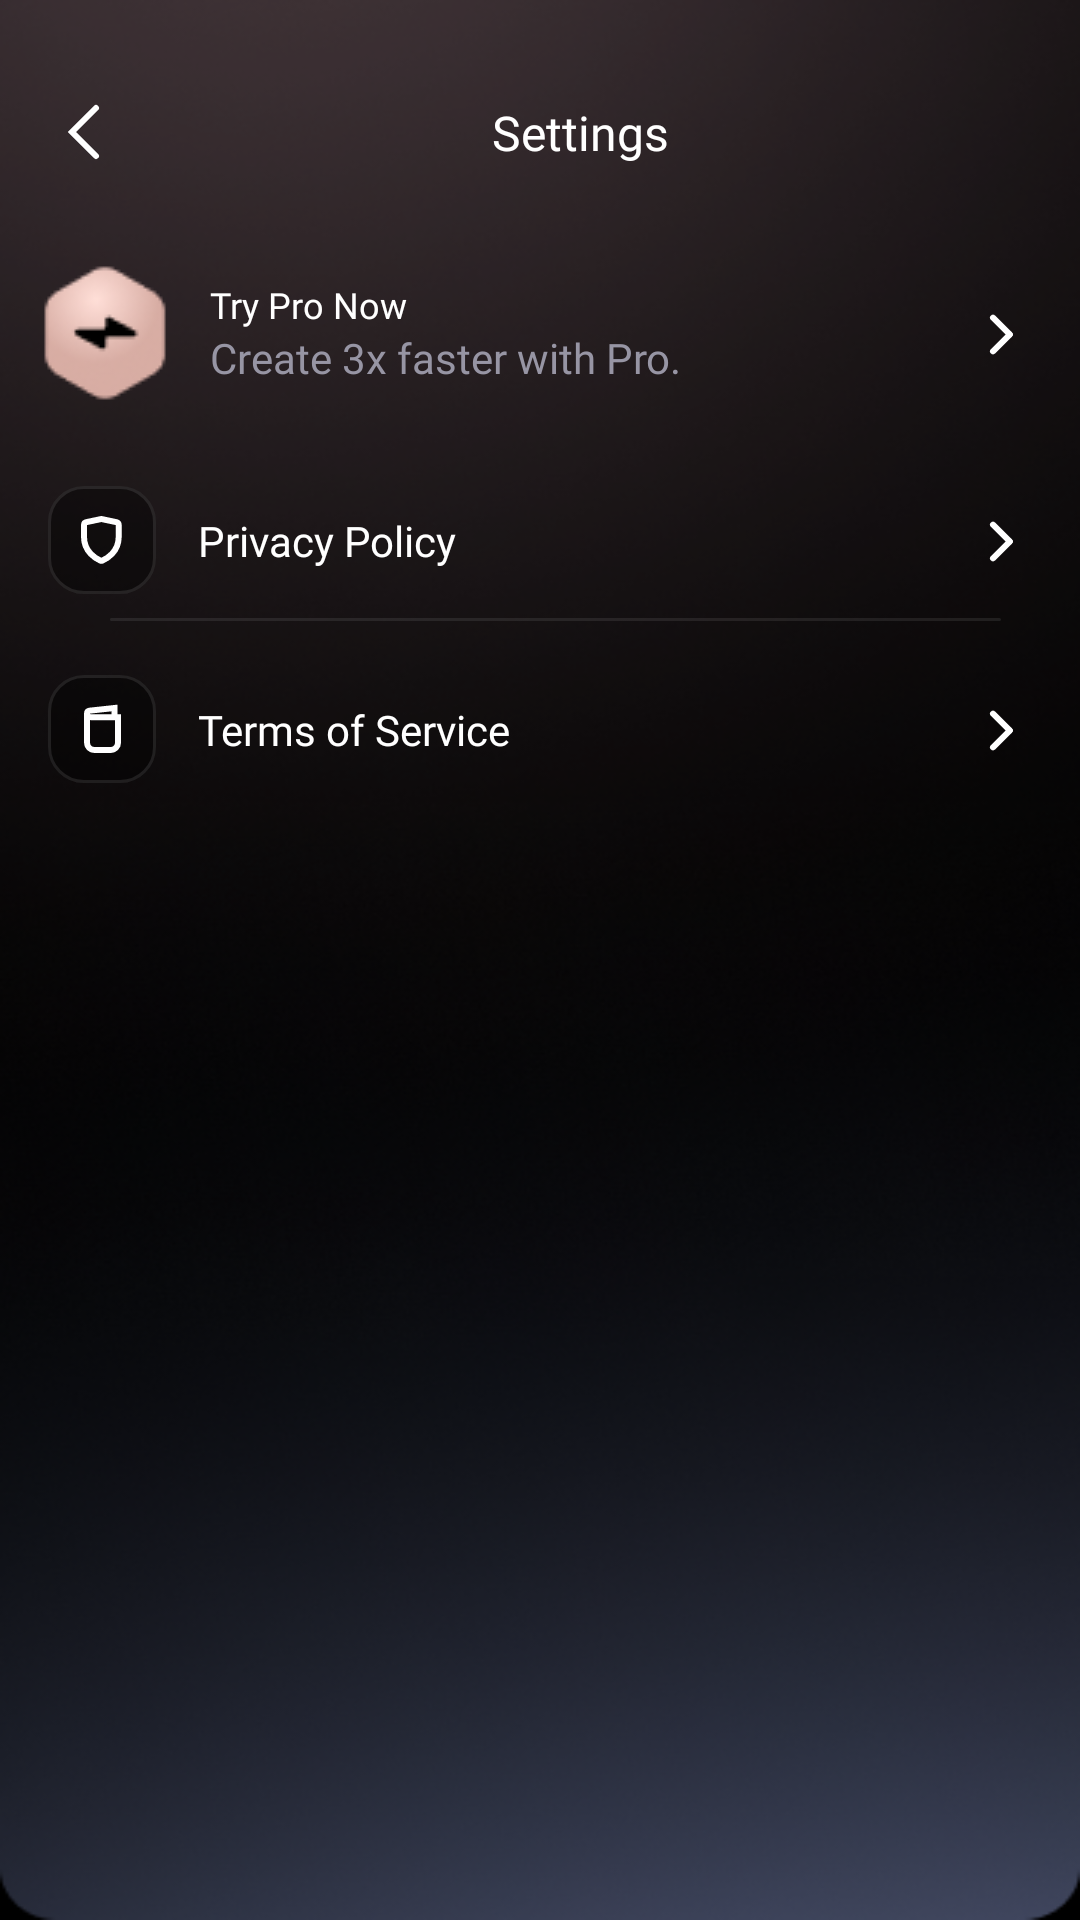

Named icons in this screenshot (1080×1920) and their centers, (x,y):
arrow: (1001,334), (1001,541), (1001,730)
back: (83,131)
